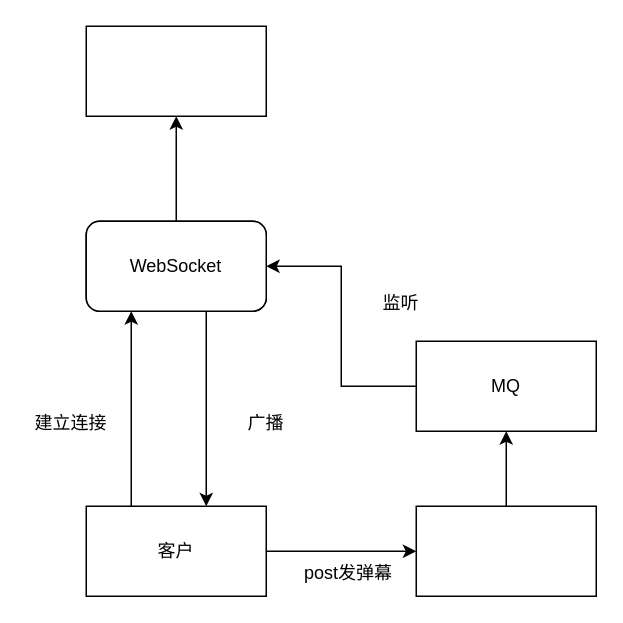
This 623x623 diagram has some shape labels left out. Each missing label, with the box of its shape:
DB: (85, 25, 266, 116)
服务器: (415, 505, 596, 596)
